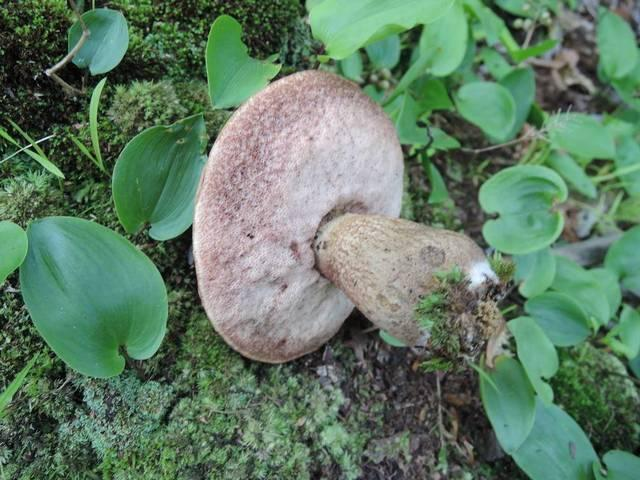poisonous_mushroom: (190, 68, 406, 364)
